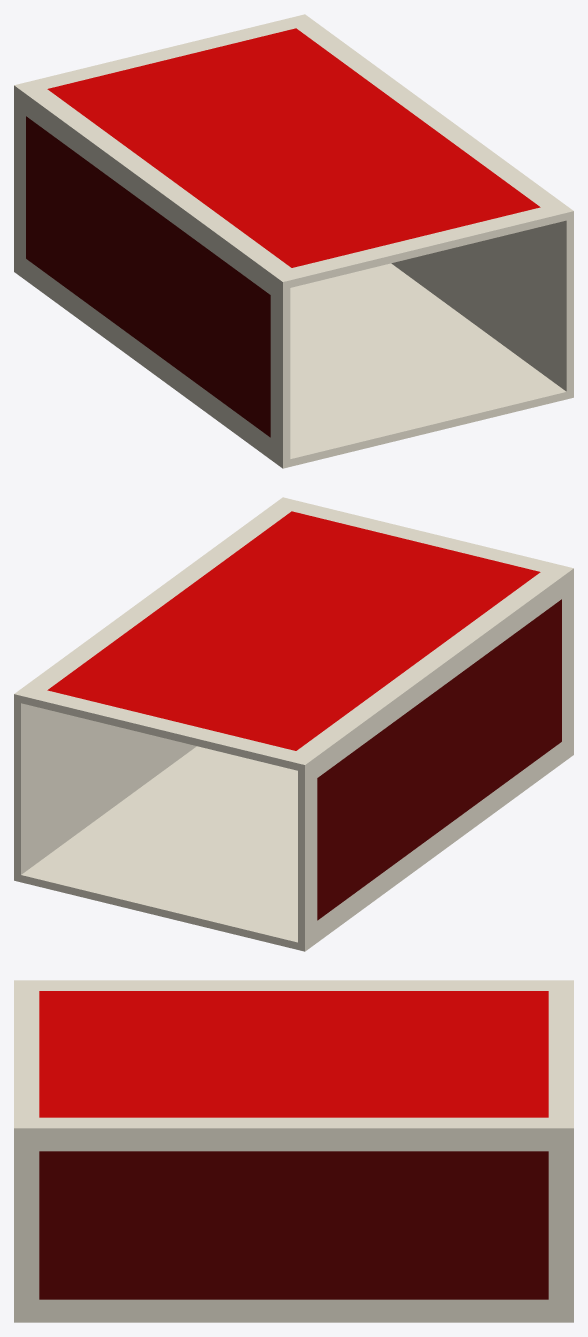
File: matches_p1.glb
The picture shows the model from 3 angles, top to bottom: view 1: azimuth 30°, elevation 25°; view 2: azimuth 150°, elevation 25°; view 3: azimuth 270°, elevation 25°; orthographic projection. The views are drawn at different scales.
Visible parts, largest first — view 1: SCP_Matches_p1.001_PandaMat_0; view 2: SCP_Matches_p1.001_PandaMat_0; view 3: SCP_Matches_p1.001_PandaMat_0.
Part boxes in pixels (left/top/right/bottom): SCP_Matches_p1.001_PandaMat_0: left=14, top=14, right=573, bottom=468; SCP_Matches_p1.001_PandaMat_0: left=14, top=497, right=573, bottom=951; SCP_Matches_p1.001_PandaMat_0: left=14, top=980, right=573, bottom=1322.
Bounding box in the file's own units: 0.143 × 0.0876 × 0.2288.
Materials: 1 (1 with a texture image).
